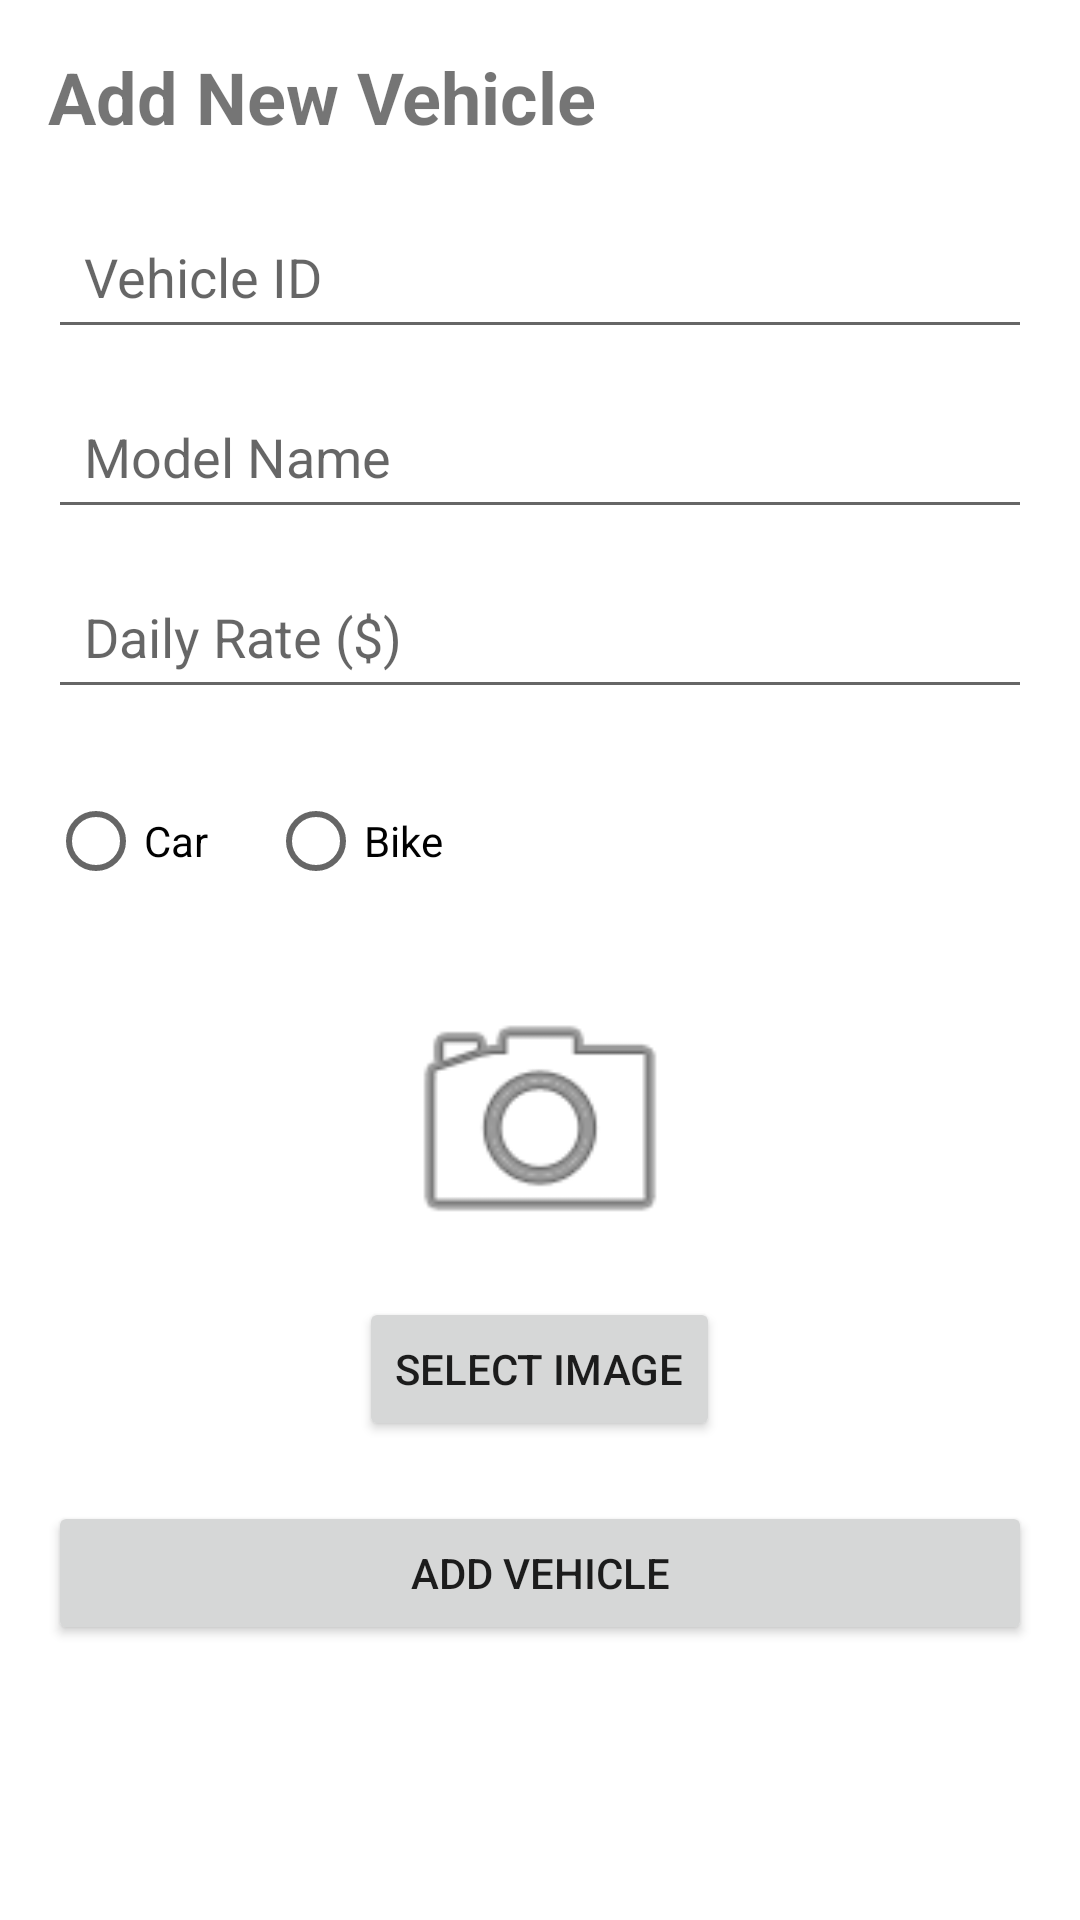

Where to tap for icons on this 1080 × 1920 app screen, as [x,y]:
camera: [540,1118]
